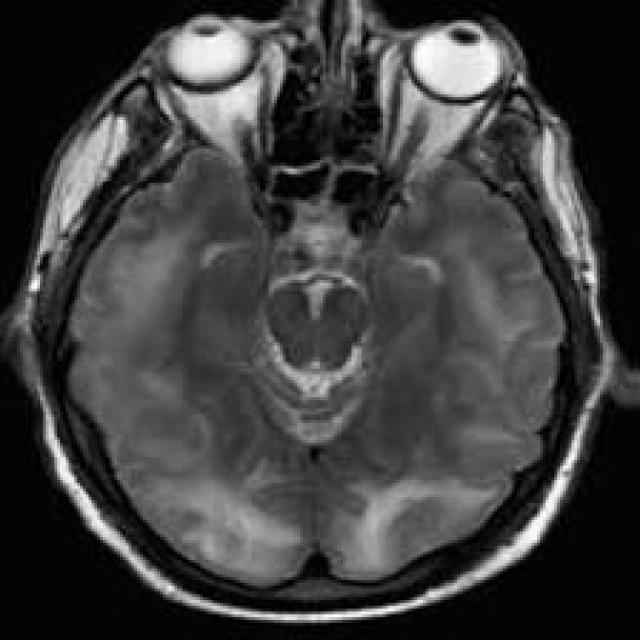no_tumor: (25, 6, 603, 640)
